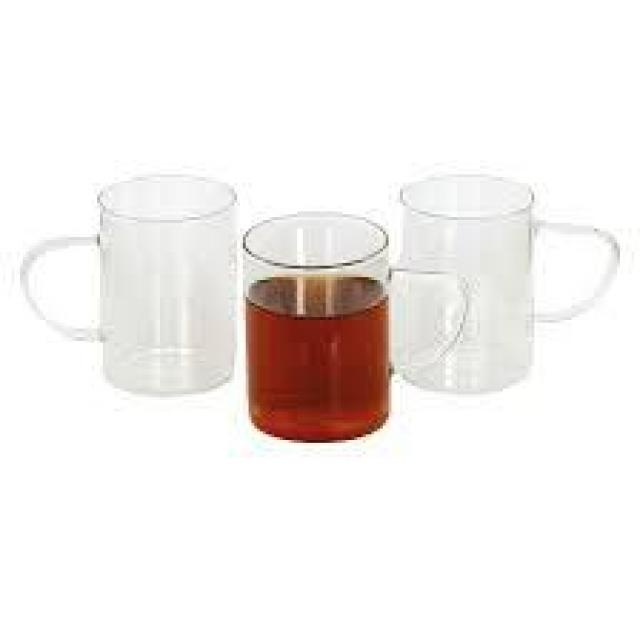non-organic waste: (234, 208, 472, 448), (11, 166, 240, 400)
